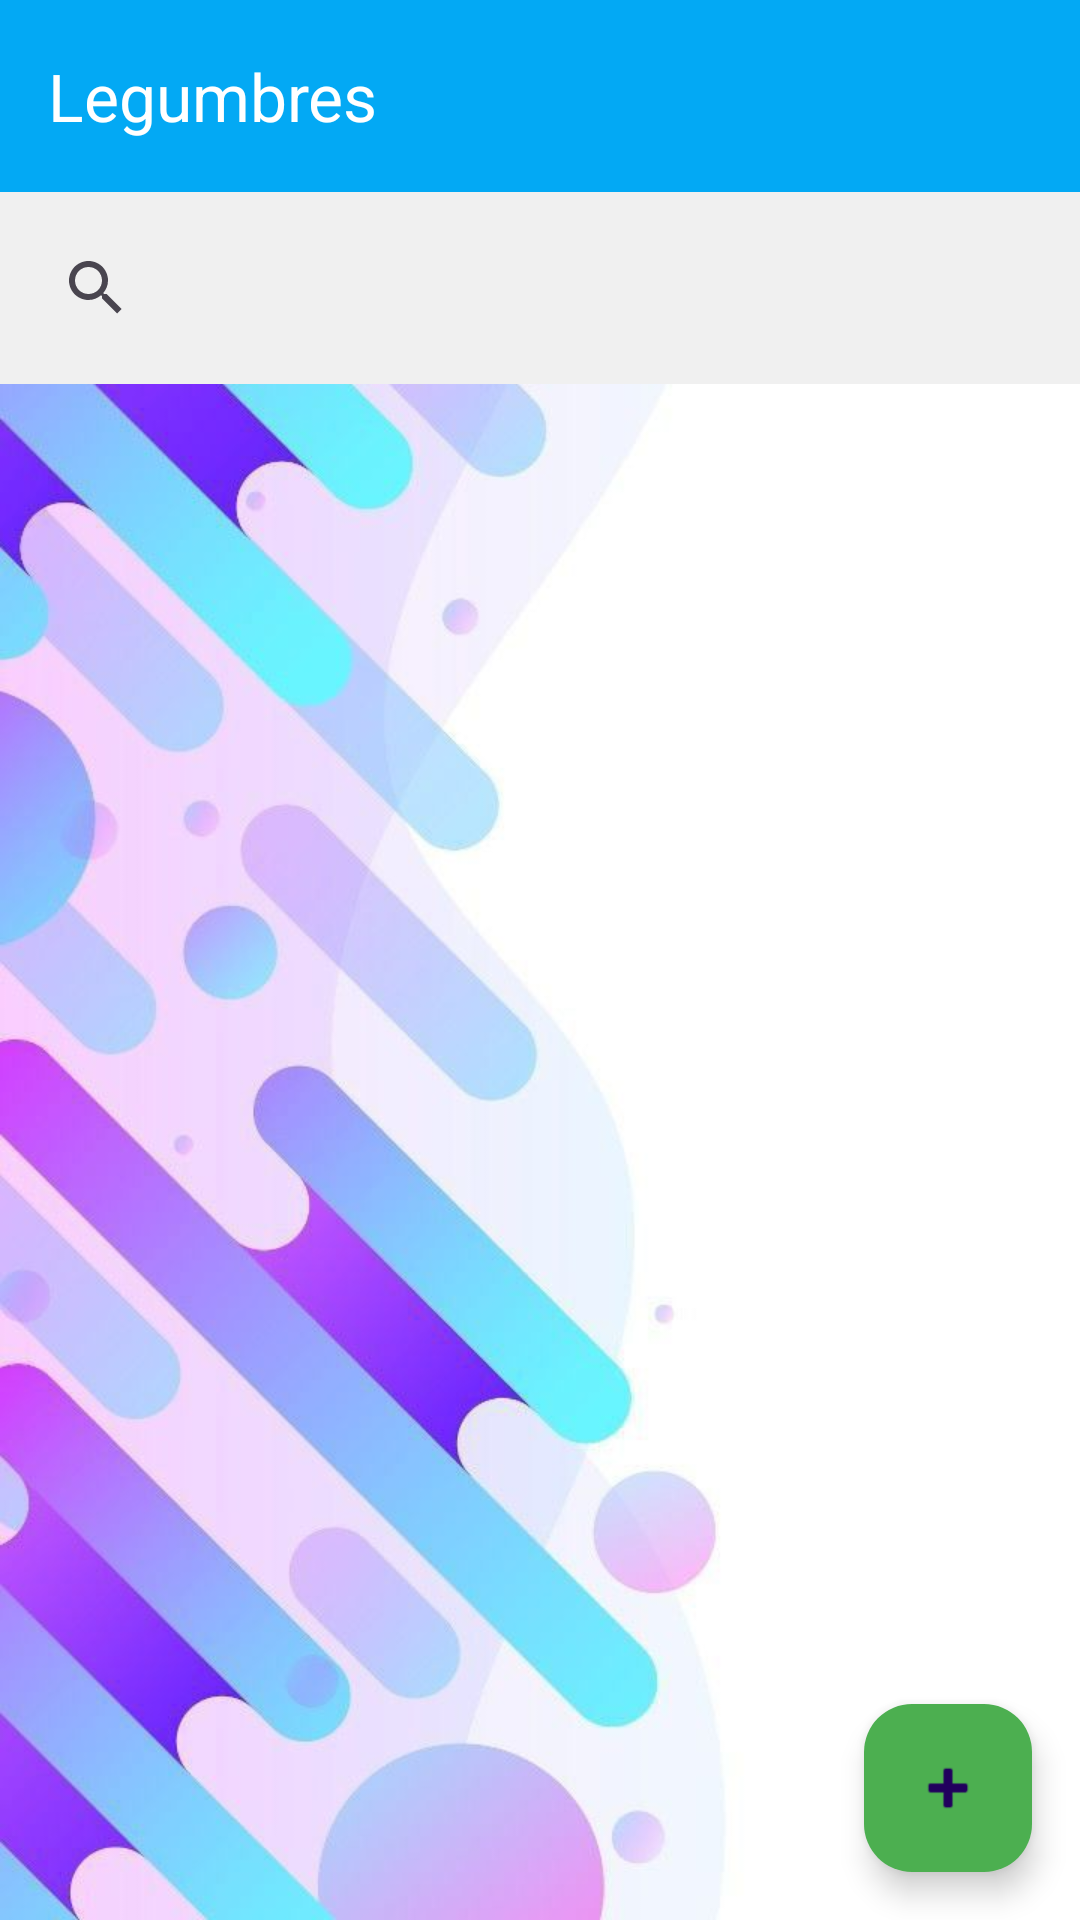

Screen size 1080 x 1920. Icon name, then its box in pixels as rect(x1, y1, x2, y2):
Agregar producto: rect(864, 1704, 1032, 1872)
